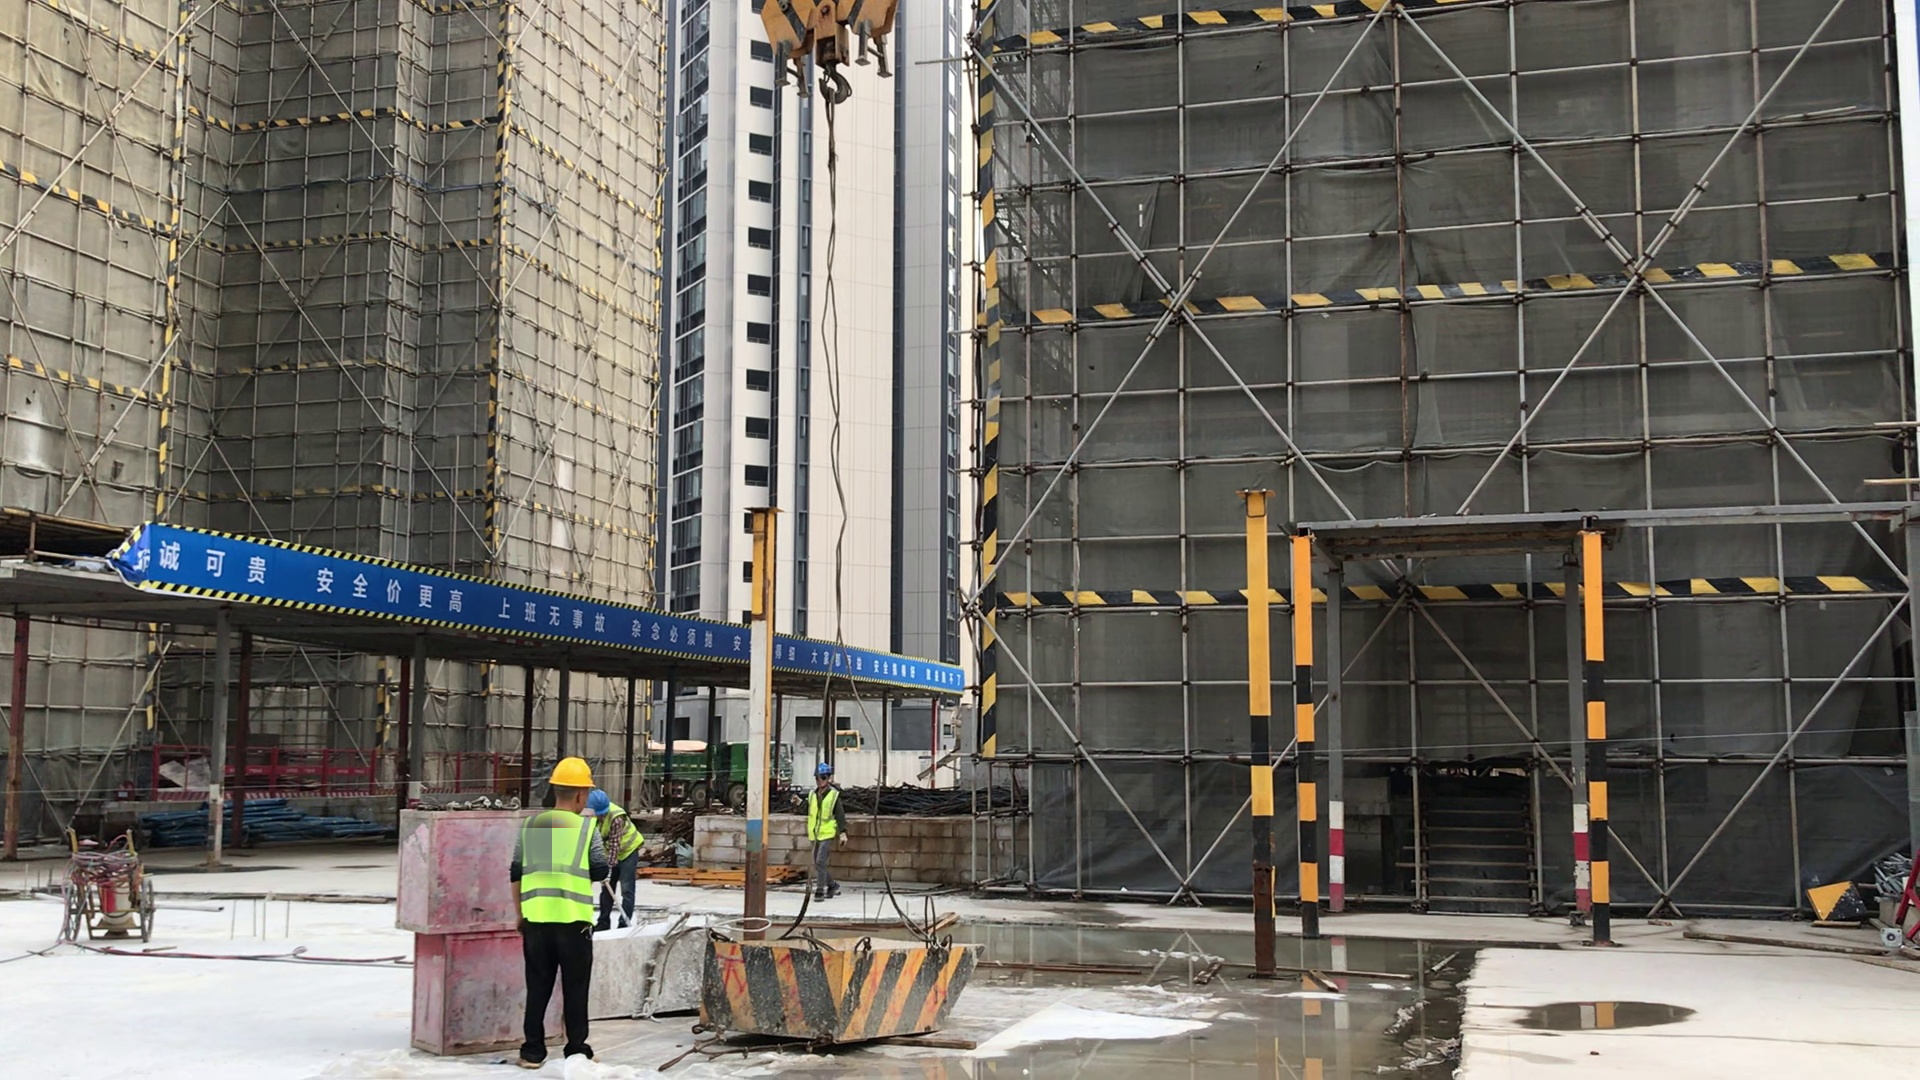fence: (156, 743, 520, 792)
handcart: (58, 820, 150, 953)
helmet: (548, 756, 594, 789), (588, 788, 608, 813), (812, 763, 831, 775)
hook: (754, 1, 898, 107)
hopper: (706, 927, 988, 1043), (593, 923, 711, 1024)
person: (511, 757, 609, 1070), (586, 789, 643, 934), (805, 762, 848, 902)
slogan: (132, 520, 965, 695)
vest: (520, 810, 594, 924), (599, 804, 641, 861), (806, 787, 838, 842)
